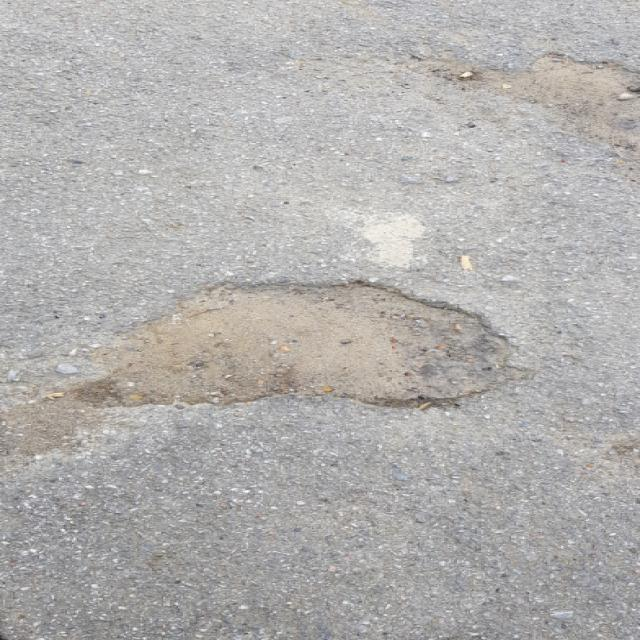pothole: (63, 272, 530, 414)
